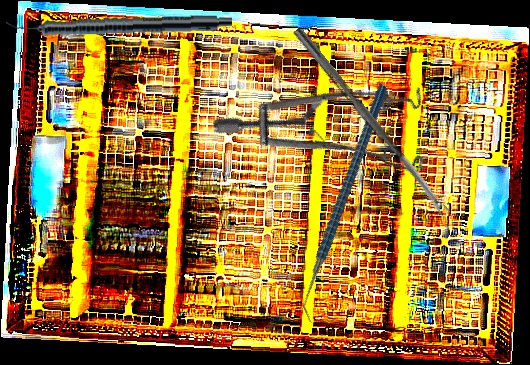Chopper: (234, 82, 460, 326)
Handpiece: (5, 9, 233, 39)
Speculum: (208, 30, 456, 248)
Surgical Spoon: (291, 26, 451, 219)
